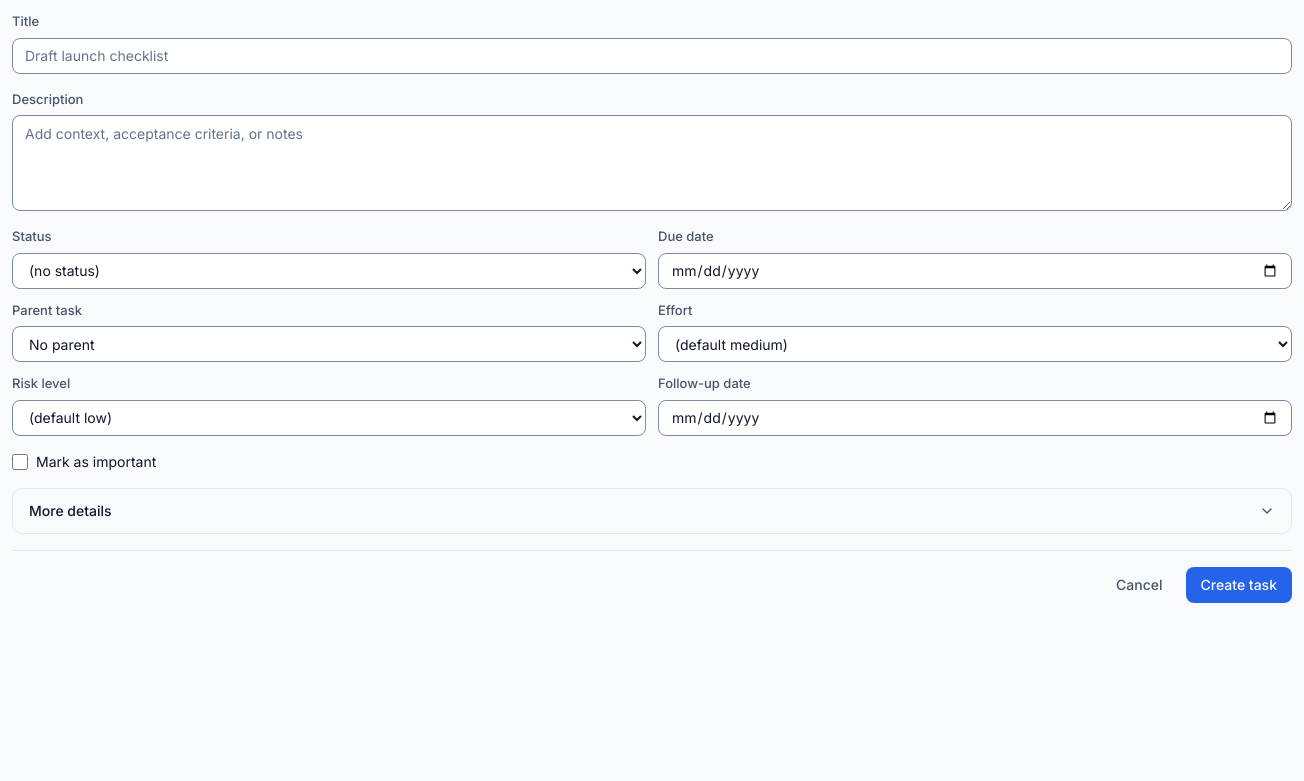
Test: TaskCreateForm capture flow (issue #304) › shows a focusable error summary that links to each invalid field, keeping inline errors
Select "WAITING" in the dropdown labelled "Status": (329, 270) [12,252,646,288]
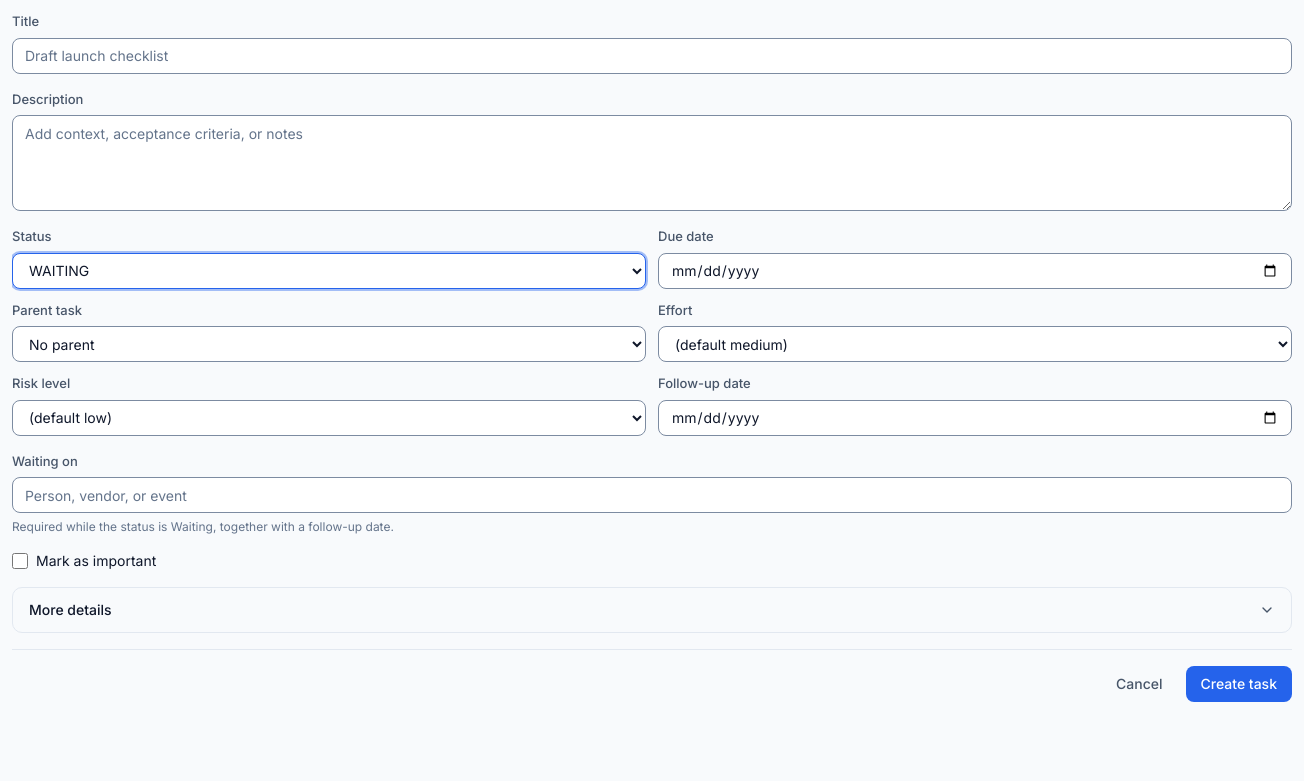
Click the button "Create task": (1239, 684) [1186,666,1292,702]
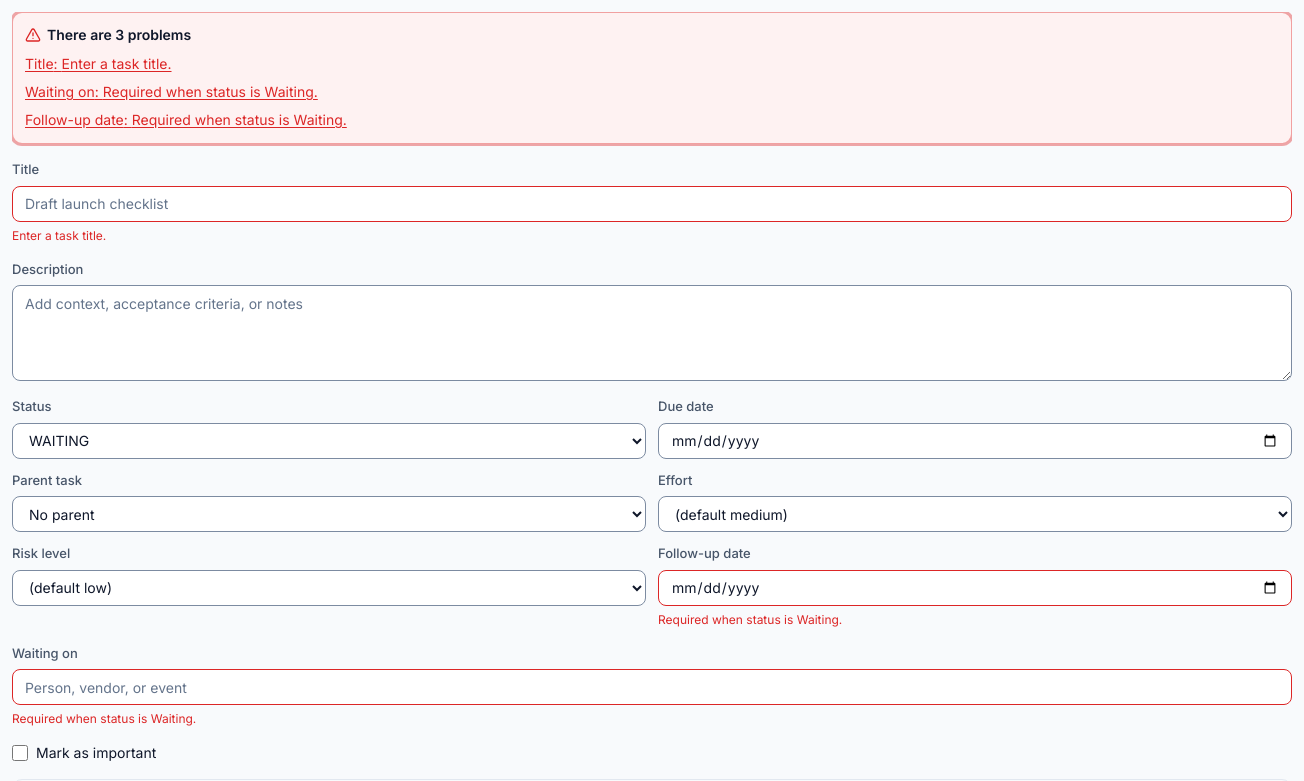
Result: the text "Required when status is Waiting." is shown 2 times at [658,612,842,626]; [12,711,196,726]
